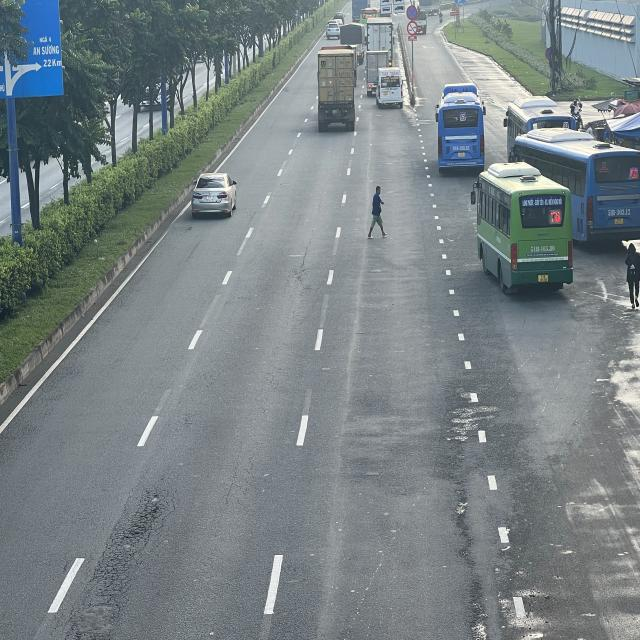car: (192, 173, 239, 218)
coach: (470, 163, 575, 296), (518, 125, 638, 236), (438, 85, 488, 174)
container: (318, 47, 358, 133), (364, 16, 394, 60)
van: (377, 68, 404, 110)
